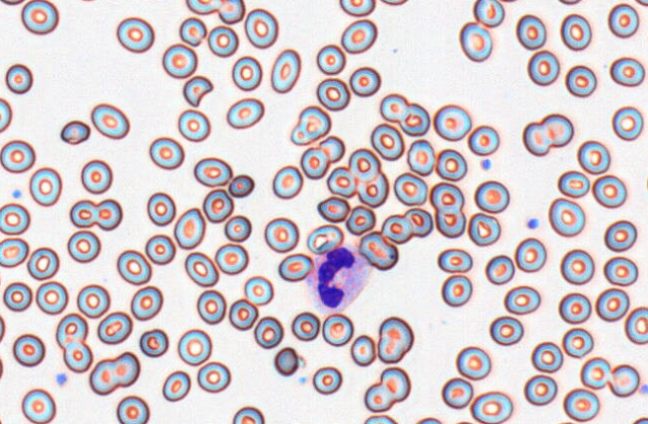GRAN: (309, 242, 373, 314)
PLT: (56, 372, 67, 387), (480, 159, 493, 170), (528, 216, 538, 230), (640, 382, 648, 397), (11, 189, 22, 199)
RBC: (522, 112, 573, 156), (89, 351, 140, 395), (363, 366, 410, 412), (69, 198, 122, 231), (376, 316, 413, 363), (290, 104, 331, 145), (358, 231, 398, 270), (548, 197, 585, 237), (433, 103, 471, 141), (90, 102, 129, 139), (469, 390, 512, 423), (116, 16, 154, 53), (270, 48, 301, 93), (244, 7, 278, 48), (458, 21, 492, 62), (173, 207, 205, 249), (340, 18, 377, 54), (177, 328, 212, 366), (29, 166, 62, 206), (116, 249, 152, 285), (263, 216, 299, 252), (562, 387, 599, 422), (370, 122, 404, 160), (21, 0, 59, 34), (161, 43, 197, 78), (455, 345, 491, 380), (560, 248, 594, 285), (21, 388, 56, 423), (184, 251, 218, 287), (226, 97, 264, 129), (193, 156, 232, 187), (393, 171, 427, 206), (76, 283, 110, 318), (0, 139, 35, 173), (591, 174, 626, 208), (55, 312, 88, 348), (473, 180, 509, 213), (67, 229, 101, 263), (595, 287, 629, 321), (316, 77, 350, 111), (97, 311, 132, 344), (130, 285, 163, 320), (149, 136, 184, 169), (577, 139, 610, 174), (527, 49, 559, 85), (611, 105, 643, 141), (306, 223, 343, 254), (560, 13, 591, 50), (515, 13, 546, 50), (35, 280, 68, 314), (177, 108, 210, 142), (467, 212, 500, 246), (348, 147, 380, 182), (356, 172, 388, 207), (80, 159, 112, 194), (607, 3, 639, 38), (514, 237, 546, 272), (231, 55, 262, 91), (609, 56, 645, 87), (406, 138, 435, 176), (12, 333, 45, 366), (604, 219, 637, 252), (398, 102, 430, 136), (196, 361, 230, 393), (607, 363, 639, 397), (321, 312, 353, 346), (27, 246, 59, 280), (214, 242, 248, 274), (429, 181, 464, 212), (603, 255, 638, 286), (503, 285, 540, 314), (558, 292, 591, 324), (435, 148, 467, 181), (523, 374, 557, 405), (202, 188, 233, 222), (272, 165, 303, 199), (196, 289, 226, 324), (277, 252, 313, 281), (441, 377, 473, 409), (531, 341, 563, 373), (580, 356, 611, 389), (207, 24, 238, 57), (565, 64, 596, 97), (489, 315, 523, 345), (146, 191, 175, 226), (380, 213, 412, 244), (144, 233, 175, 265), (441, 274, 472, 306), (467, 124, 499, 155), (299, 146, 329, 179), (62, 340, 92, 373), (0, 202, 30, 235), (253, 315, 283, 348), (562, 327, 593, 358), (326, 166, 356, 198), (228, 298, 258, 330), (316, 43, 346, 75), (349, 66, 381, 96), (379, 92, 410, 122), (345, 204, 375, 235), (484, 254, 514, 285), (557, 170, 590, 198), (116, 395, 149, 423), (316, 195, 350, 222), (624, 306, 648, 344), (437, 247, 472, 273), (403, 207, 433, 237), (2, 281, 32, 311), (434, 209, 465, 238), (4, 63, 33, 94), (0, 237, 29, 267), (312, 366, 342, 395), (244, 275, 273, 305), (291, 311, 320, 341), (162, 370, 190, 401), (139, 328, 168, 357), (178, 16, 206, 46), (473, 0, 504, 27), (350, 334, 376, 366), (273, 346, 300, 376), (318, 134, 345, 163), (224, 214, 251, 242), (227, 173, 254, 198), (217, 0, 245, 24), (339, 0, 375, 16), (232, 405, 264, 423), (185, 0, 222, 15), (0, 96, 12, 132), (363, 414, 397, 423), (415, 416, 442, 423), (644, 14, 648, 53), (0, 312, 5, 343), (380, 0, 408, 5), (556, 0, 583, 5), (631, 416, 647, 424), (0, 0, 24, 5), (547, 421, 583, 424), (452, 420, 476, 424), (634, 0, 648, 6), (0, 353, 3, 380), (495, 0, 521, 3), (74, 0, 101, 2), (646, 169, 648, 195)
Schistocyte: (182, 75, 214, 108), (59, 120, 93, 147)
